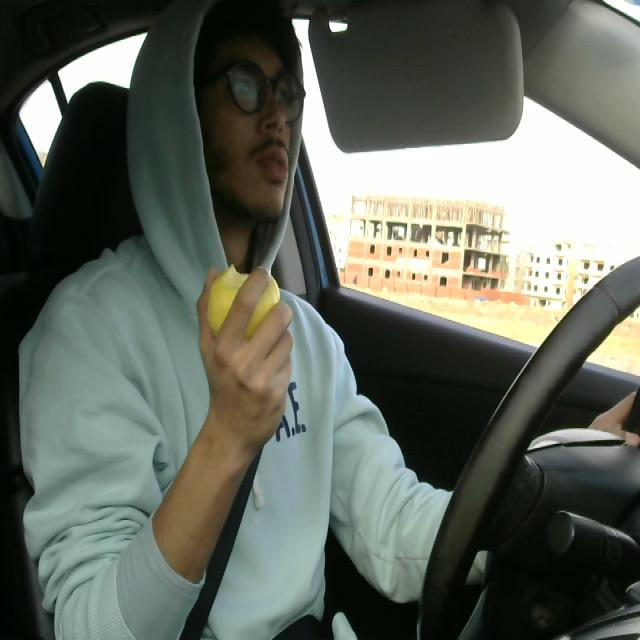eating: (202, 254, 278, 349)
